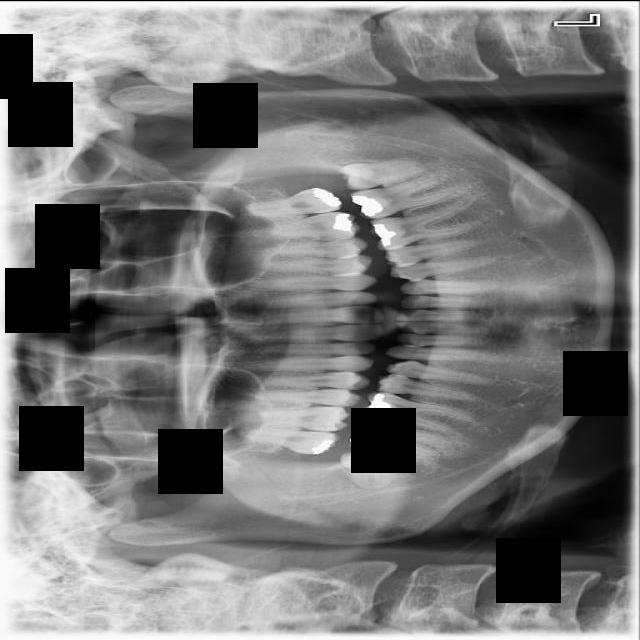52: (349, 418, 384, 453), (359, 390, 392, 420), (308, 183, 343, 209), (367, 220, 398, 248), (349, 194, 383, 217), (310, 435, 336, 457), (332, 211, 356, 233)
73: (574, 70, 590, 78)
BioHorizons Implant: (249, 185, 342, 219)
Biomet 3i Implant: (337, 156, 424, 191)
Blue Sky Bio Implant: (349, 173, 456, 222)
Caries: (249, 425, 341, 456)
Implant: (349, 419, 452, 459)
Keystone Dental Implant: (338, 446, 400, 491)
